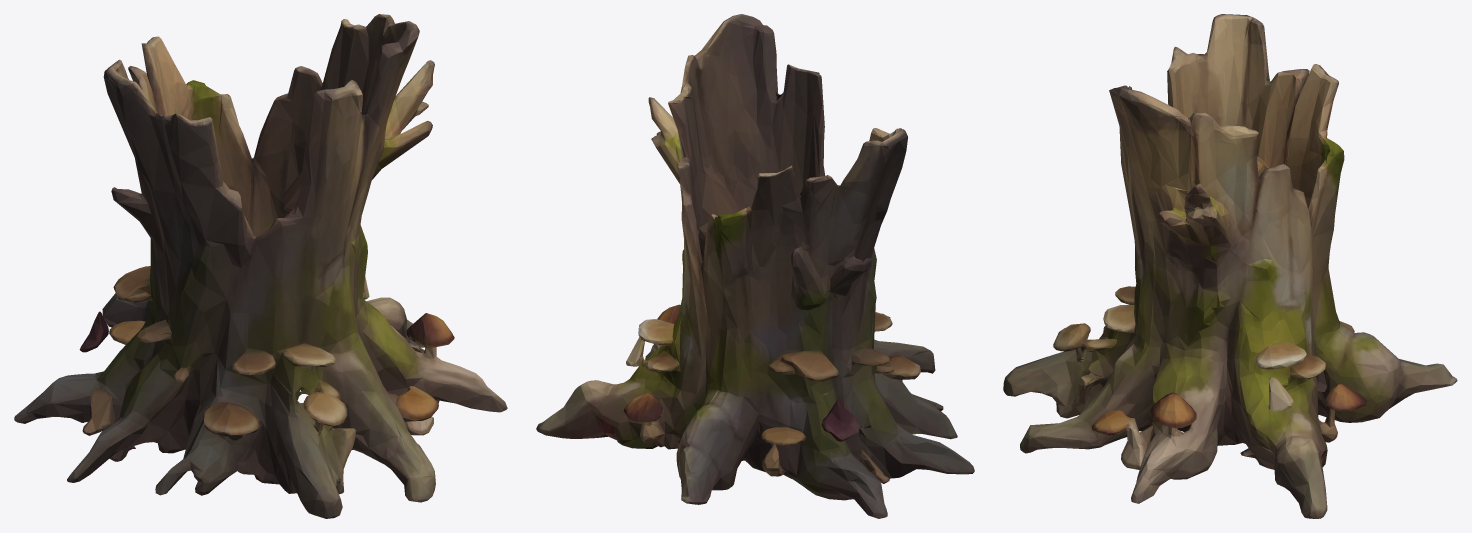
The model's file is dead_tree2.glb.
3 views of the same model, side by side, from view 1: azimuth 30°, elevation 25°; view 2: azimuth 150°, elevation 25°; view 3: azimuth 270°, elevation 25° (orthographic). The views are drawn at different scales.
Parts seen in each view (by area): view 1: world; view 2: world; view 3: world.
Part boxes in pixels (<box>): world: <box>14,14,507,518</box>; world: <box>536,14,974,518</box>; world: <box>1003,14,1457,518</box>.
Size of the model in its own units: 0.7746 by 0.7319 by 0.789.
Materials: 1 (1 with a texture image).
